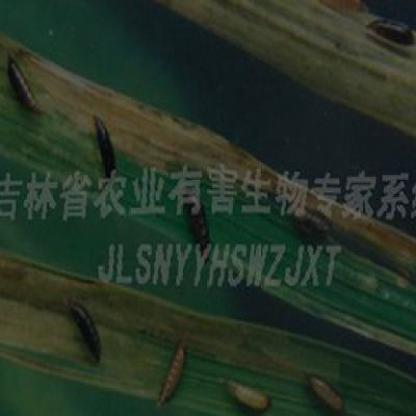whorl-maggot: (156, 332, 190, 413), (67, 299, 104, 364), (363, 5, 416, 50), (7, 53, 43, 118), (304, 360, 344, 416), (84, 105, 118, 170), (226, 375, 273, 416)
